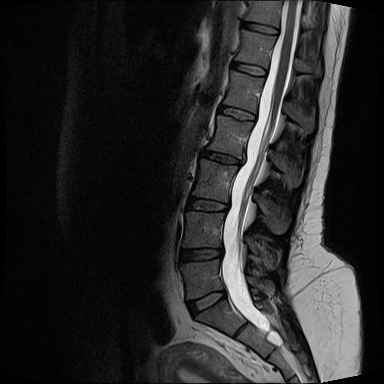Lumbar Disc Bulge (LDB): (184, 283, 225, 317), (176, 242, 229, 265), (179, 194, 234, 215), (197, 147, 246, 170)
Normal IVD: (213, 99, 261, 127), (228, 60, 271, 81)
Spinal Stenosis (SS): (230, 153, 250, 172), (220, 198, 236, 217), (214, 245, 229, 264), (270, 22, 284, 42)
Thoracic Disc Bulge (TDB): (238, 20, 282, 37)
